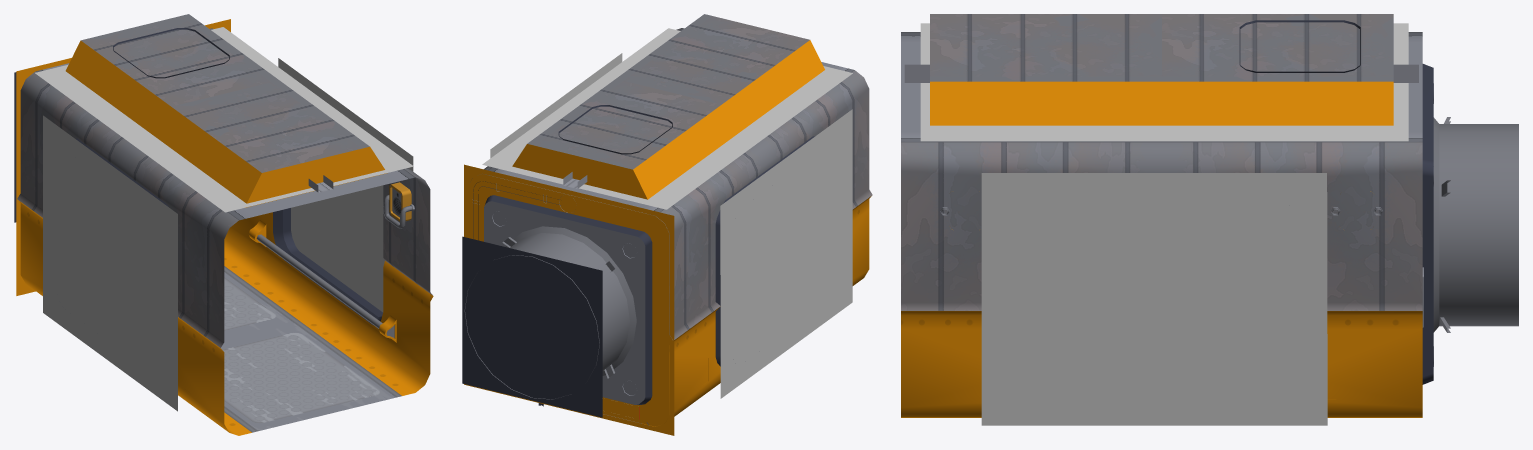
File: obj_building_elevatortest.fbx
The picture shows the model from 3 angles, left to right: view 1: azimuth 30°, elevation 25°; view 2: azimuth 150°, elevation 25°; view 3: azimuth 270°, elevation 25°; orthographic projection. The views are drawn at different scales.
Visible parts, largest first — view 1: polySurface1868; view 2: polySurface1868; view 3: polySurface1868.
Part boxes in pixels (x1,y1,x2,y2): polySurface1868: [14, 14, 433, 435]; polySurface1868: [462, 14, 872, 435]; polySurface1868: [901, 14, 1518, 425].
Size of the model in its own units: 16 by 16.57 by 28.43.
